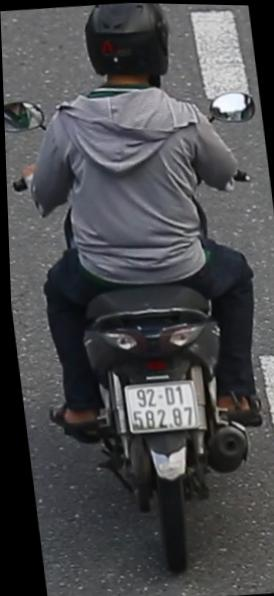LP: (118, 370, 204, 438)
helmet: (74, 1, 180, 102)
